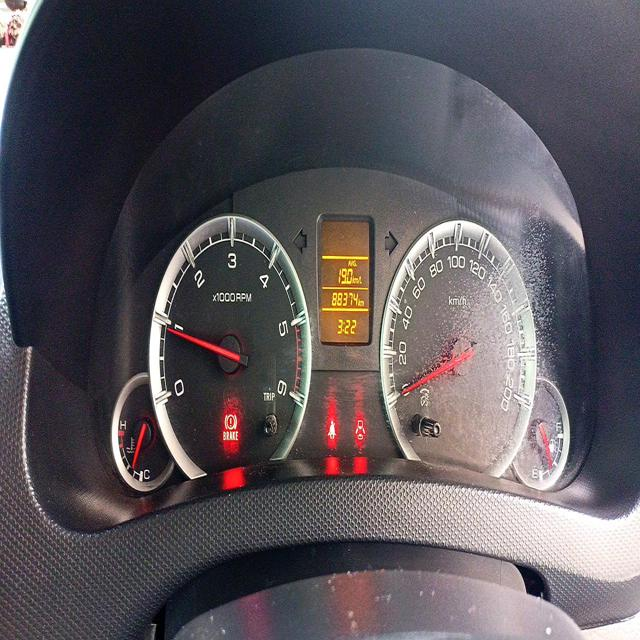odometer: (330, 289, 359, 308)
